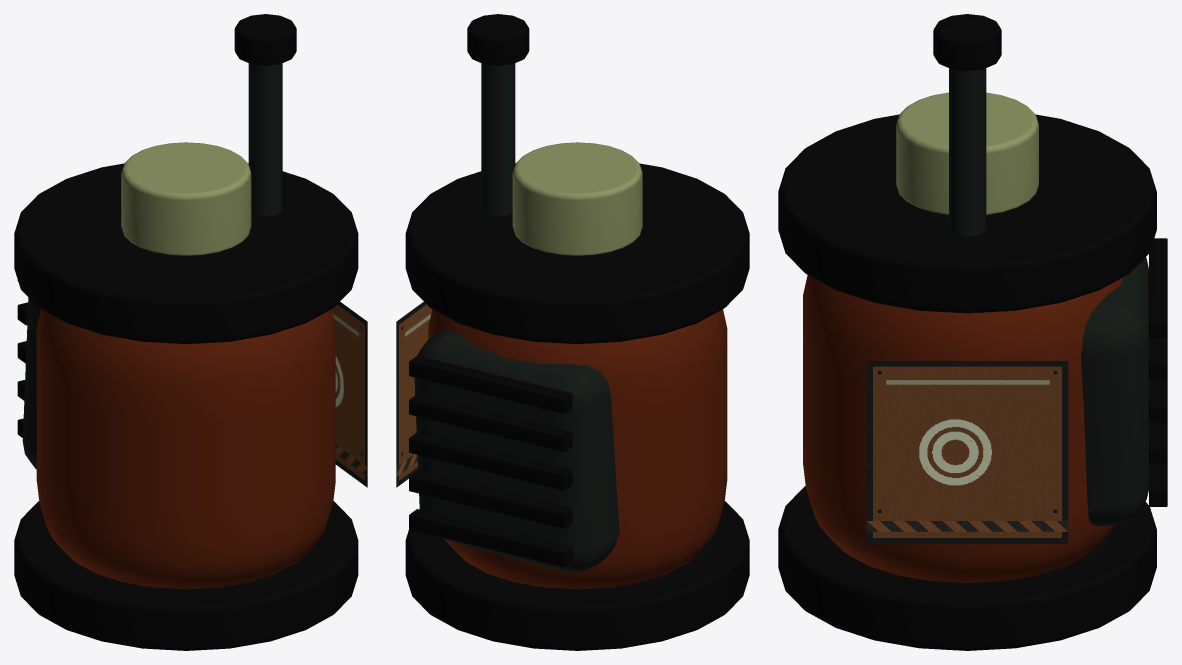
The model's file is decoy.obj.
The picture shows the model from 3 angles, left to right: view 1: azimuth 30°, elevation 25°; view 2: azimuth 150°, elevation 25°; view 3: azimuth 270°, elevation 25°; orthographic projection. The views are drawn at different scales.
Visible parts, largest first — view 1: Rounded_beacon_casing, Rubber_bumper.001, Rubber_bumper, Beacon_lamp, Specification_plate.003, Telescoping_antenna, Antenna_cap, Speaker_housing; view 2: Rubber_bumper.001, Rounded_beacon_casing, Rubber_bumper, Speaker_housing, Beacon_lamp, Telescoping_antenna, Speaker_grille.002, Speaker_grille.004, Speaker_grille, Speaker_grille.001, Speaker_grille.003, Specification_plate.003 (+1 smaller); view 3: Rubber_bumper.001, Rounded_beacon_casing, Specification_plate.003, Rubber_bumper, Speaker_housing, Beacon_lamp, Telescoping_antenna, Antenna_cap, Speaker_grille.004, Speaker_grille, Speaker_grille.003, Speaker_grille.001 (+1 smaller).
Boxes of the visible parts, x1=… form: Rounded_beacon_casing: x1=36, y1=309, x2=335, y2=589; Rubber_bumper.001: x1=14, y1=163, x2=358, y2=344; Rubber_bumper: x1=14, y1=501, x2=358, y2=650; Beacon_lamp: x1=121, y1=142, x2=251, y2=255; Specification_plate.003: x1=331, y1=302, x2=367, y2=487; Telescoping_antenna: x1=248, y1=63, x2=282, y2=216; Antenna_cap: x1=234, y1=14, x2=296, y2=65; Speaker_housing: x1=22, y1=297, x2=40, y2=469; Rubber_bumper.001: x1=405, y1=163, x2=749, y2=344; Rounded_beacon_casing: x1=428, y1=309, x2=727, y2=589; Rubber_bumper: x1=405, y1=501, x2=749, y2=650; Speaker_housing: x1=414, y1=328, x2=619, y2=572; Beacon_lamp: x1=512, y1=142, x2=642, y2=255; Telescoping_antenna: x1=481, y1=63, x2=515, y2=216; Speaker_grille.002: x1=409, y1=432, x2=572, y2=490; Speaker_grille.004: x1=409, y1=355, x2=572, y2=413; Speaker_grille: x1=409, y1=509, x2=572, y2=567; Speaker_grille.001: x1=409, y1=470, x2=572, y2=528; Speaker_grille.003: x1=409, y1=394, x2=572, y2=452; Specification_plate.003: x1=396, y1=302, x2=432, y2=487; Rubber_bumper.001: x1=778, y1=114, x2=1156, y2=313; Rounded_beacon_casing: x1=803, y1=275, x2=1123, y2=583; Specification_plate.003: x1=866, y1=361, x2=1068, y2=543; Rubber_bumper: x1=778, y1=486, x2=1156, y2=650; Speaker_housing: x1=1080, y1=257, x2=1149, y2=525; Beacon_lamp: x1=896, y1=92, x2=1038, y2=214; Telescoping_antenna: x1=949, y1=68, x2=986, y2=236; Antenna_cap: x1=933, y1=14, x2=1001, y2=70; Speaker_grille.004: x1=1149, y1=238, x2=1167, y2=337; Speaker_grille: x1=1149, y1=464, x2=1167, y2=506; Speaker_grille.003: x1=1149, y1=337, x2=1167, y2=380; Speaker_grille.001: x1=1149, y1=422, x2=1167, y2=464.
Size of the model in its own units: 0.244 by 0.4185 by 0.251.
6 materials, 1 textured.
